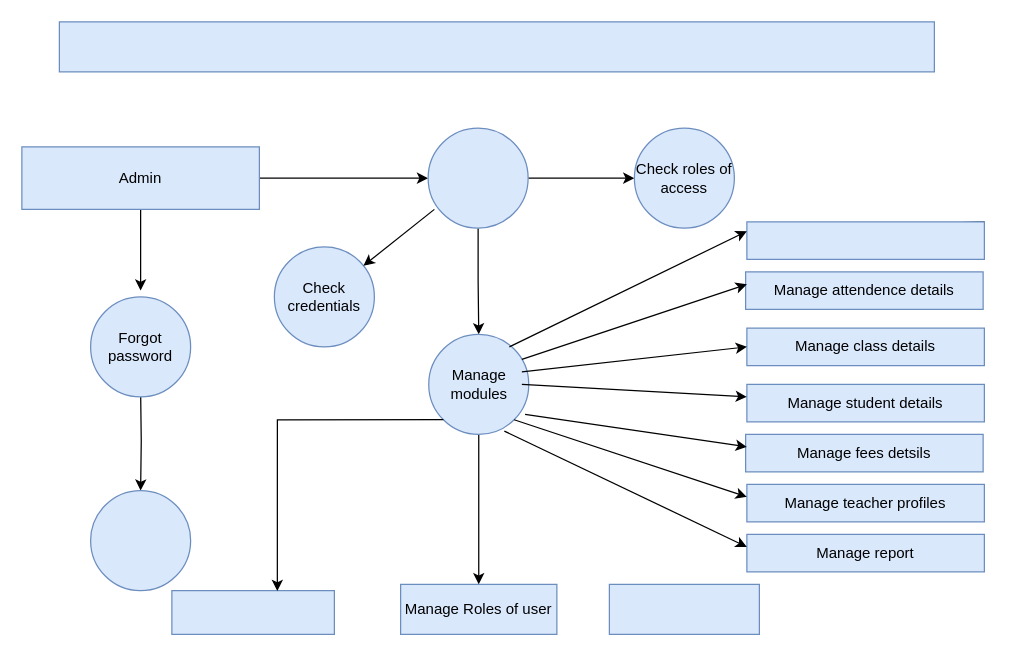
Image size: 1016x666. Some labels were removed from this diagram. The shapes that lost their labels are listed below. From the top down, each one's centre as x and y in pixels, then its label:
the point at 496,46: Student Information System
the point at 477,177: Login to system
the point at 865,240: Manage timetable details
the point at 140,540: Send email to user
the point at 252,611: Manage System Admins
the point at 683,608: Manage user permission
